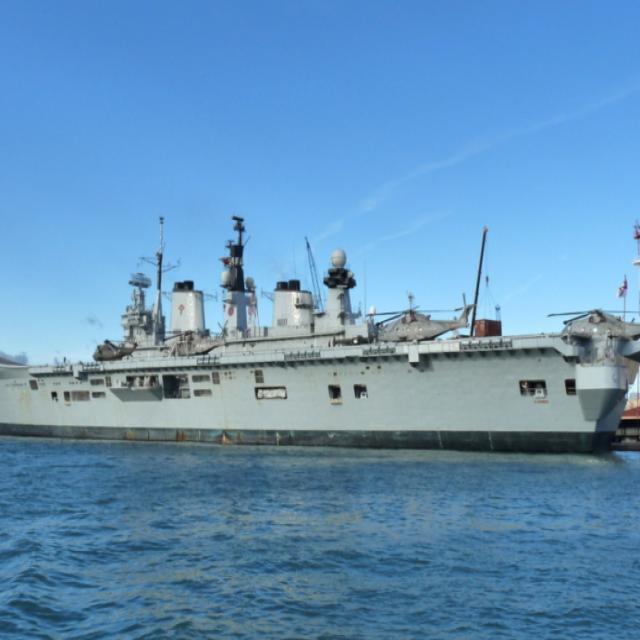Portanaves: (1, 213, 640, 470)
